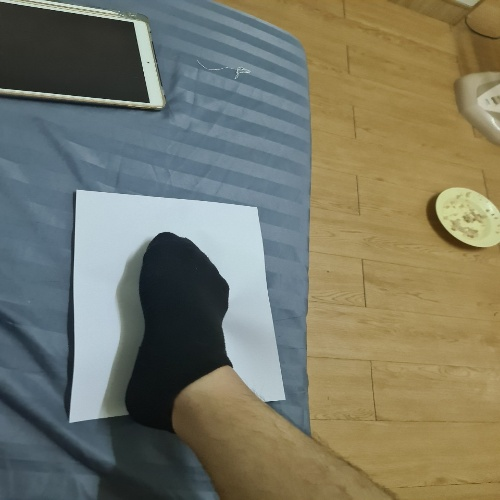Top_Foot: (50, 177, 309, 442)
